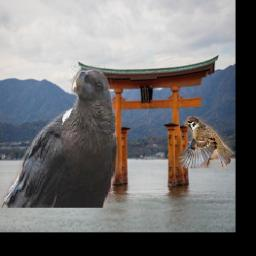Crow: (0, 66, 118, 209)
Sparrow: (179, 117, 234, 169)
